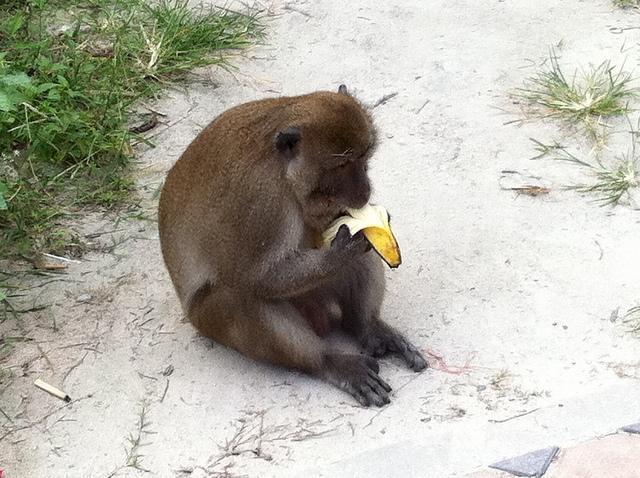banana: (316, 203, 401, 268)
